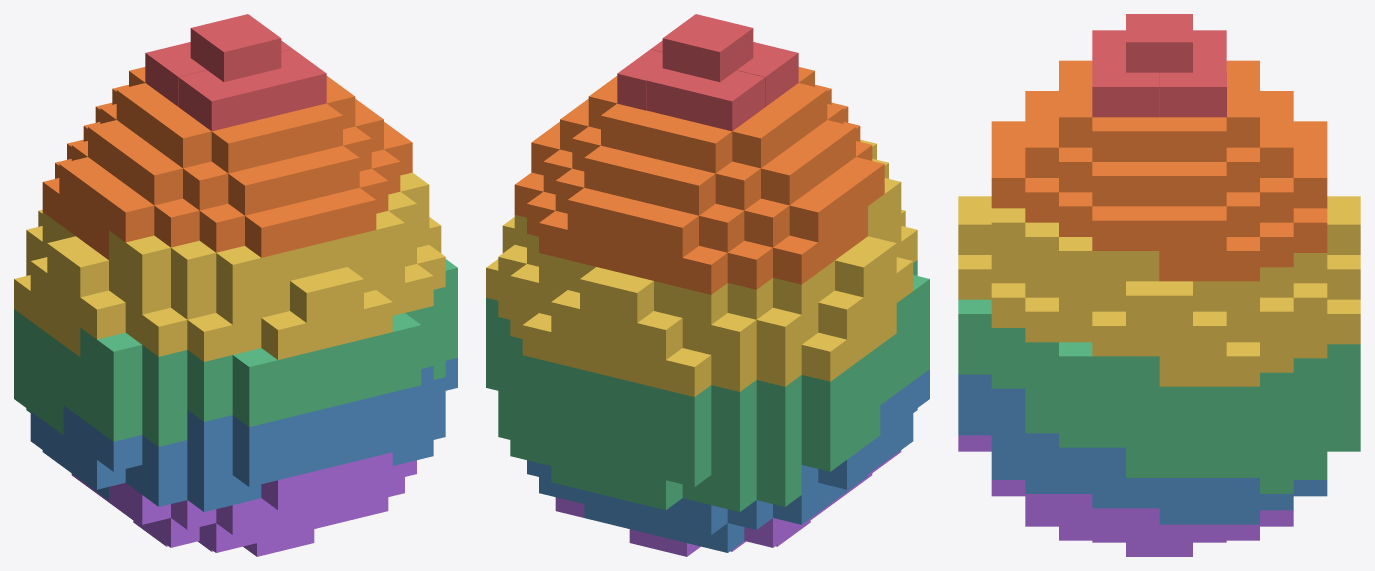
The model's file is Rainbow_Egg.glb.
3 renders of one model, left to right at view 1: azimuth 30°, elevation 25°; view 2: azimuth 150°, elevation 25°; view 3: azimuth 270°, elevation 25°, orthographic.
Visible parts, largest first — view 1: Cube_copy_copy_copy_copy_copy_copy_copy_copy_copy_copy_copy_ (×71), Cube_copy_1, Cube_copy_copy_copy_6, Cube_copy_copy_copy, Cube_copy_copy_copy_copy_copy_copy_copy_copy_copy, Cube_copy_copy_copy_9, Cube_copy_copy_copy_copy_copy_5, Cube_copy_4, Cube_copy_copy_copy_2, Cube_copy_copy_copy_copy_copy_copy_copy_copy_1, Cube_copy_copy_copy_copy_copy_8, Cube_copy_copy_copy_copy_copy_copy_6 (+59 smaller); view 2: Cube_copy_copy_copy_copy_copy_copy_copy_copy_copy_copy_copy_ (×71), Cube, Cube_copy_copy_copy_copy_copy_15, Cube_copy_copy_1, Cube_copy_copy_copy_copy_copy_17, Cube_copy_copy_copy_copy_copy_copy_copy_25, Cube_copy_copy_copy_20, Cube_copy_copy_4, Cube_copy_copy_copy_copy_copy_copy_copy_21, Cube_copy_copy_copy_copy_copy_copy_24, Cube_copy_copy_copy_copy_copy_copy_21, Cube_copy_copy_copy_copy_copy_copy_copy_copy_22 (+59 smaller); view 3: Cube_copy_copy_copy_copy_copy_copy_copy_copy_copy_copy_copy_ (×99), Cube_copy_copy_copy_copy_copy_copy_12, Cube_copy_copy_copy_copy_copy_copy_copy_copy_copy_copy_2, Cube_copy_copy_copy_copy_6, Cube_copy_5, Cube_copy_copy_12, Cube_copy_copy_copy_copy_copy_copy_19, Cube_copy_copy_copy_copy_18, Cube_copy_copy_8, Cube_copy_copy_copy_copy_4, Cube_copy_copy_copy_13, Cube_copy_copy_copy_copy_9 (+60 smaller).
Boxes of the visible parts, box(x1,y1,x2,y2) form: Cube_copy_copy_copy_copy_copy_copy_copy_copy_copy_copy_copy_ (×71): box(26, 21, 445, 552); Cube_copy_1: box(80, 290, 125, 339); Cube_copy_copy_copy_6: box(290, 274, 335, 322); Cube_copy_copy_copy: box(63, 248, 108, 297); Cube_copy_copy_copy_copy_copy_copy_copy_copy_copy: box(125, 235, 170, 284); Cube_copy_copy_copy_9: box(232, 348, 277, 396); Cube_copy_copy_copy_copy_copy_5: box(142, 308, 187, 356); Cube_copy_4: box(261, 311, 306, 359); Cube_copy_copy_copy_2: box(97, 332, 142, 381); Cube_copy_copy_copy_copy_copy_copy_copy_copy_1: box(125, 273, 170, 314); Cube_copy_copy_copy_copy_copy_8: box(232, 415, 277, 456); Cube_copy_copy_copy_copy_copy_copy_6: box(142, 405, 187, 446); Cube_copy_copy_copy_copy_copy_copy_copy_copy_copy_copy_copy_ (×71): box(510, 21, 884, 552); Cube: box(818, 290, 863, 339); Cube_copy_copy_copy_copy_copy_15: box(608, 274, 653, 322); Cube_copy_copy_1: box(835, 248, 880, 297); Cube_copy_copy_copy_copy_copy_17: box(666, 348, 711, 396); Cube_copy_copy_copy_copy_copy_copy_copy_25: box(711, 313, 756, 361); Cube_copy_copy_copy_20: box(637, 311, 682, 359); Cube_copy_copy_4: box(801, 332, 846, 381); Cube_copy_copy_copy_copy_copy_copy_copy_21: box(666, 415, 711, 456); Cube_copy_copy_copy_copy_copy_copy_24: box(711, 350, 756, 391); Cube_copy_copy_copy_copy_copy_copy_21: box(666, 385, 711, 426); Cube_copy_copy_copy_copy_copy_copy_copy_copy_22: box(711, 410, 756, 451); Cube_copy_copy_copy_copy_copy_copy_copy_copy_copy_copy_copy_ (×99): box(991, 14, 1327, 556); Cube_copy_copy_copy_copy_copy_copy_12: box(991, 283, 1025, 327); Cube_copy_copy_copy_copy_copy_copy_copy_copy_copy_copy_2: box(991, 208, 1025, 252); Cube_copy_copy_copy_copy_6: box(958, 299, 991, 344); Cube_copy_5: box(1092, 311, 1125, 356); Cube_copy_copy_12: box(1193, 311, 1226, 356); Cube_copy_copy_copy_copy_copy_copy_19: box(1260, 297, 1293, 342); Cube_copy_copy_copy_copy_18: box(1327, 299, 1360, 344); Cube_copy_copy_8: box(958, 255, 991, 299); Cube_copy_copy_copy_copy_4: box(958, 210, 991, 254); Cube_copy_copy_copy_13: box(1126, 281, 1159, 325); Cube_copy_copy_copy_copy_9: box(1159, 281, 1192, 325).
Bounding box in the file's own units: 1.2 × 1.6 × 1.2.
